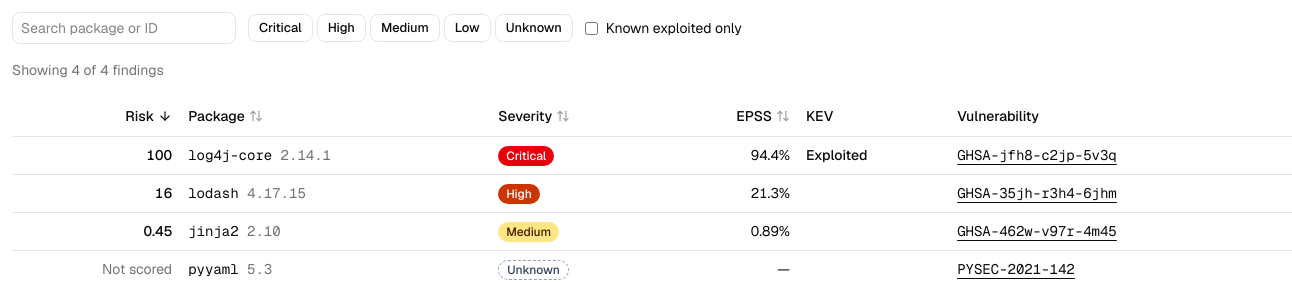
FindingsTable › hides Clear filters again once the search box is emptied
Type "x" into the search field labelled "Search package or ID".
click(124, 28); type("x")  # box [12,12,236,44]
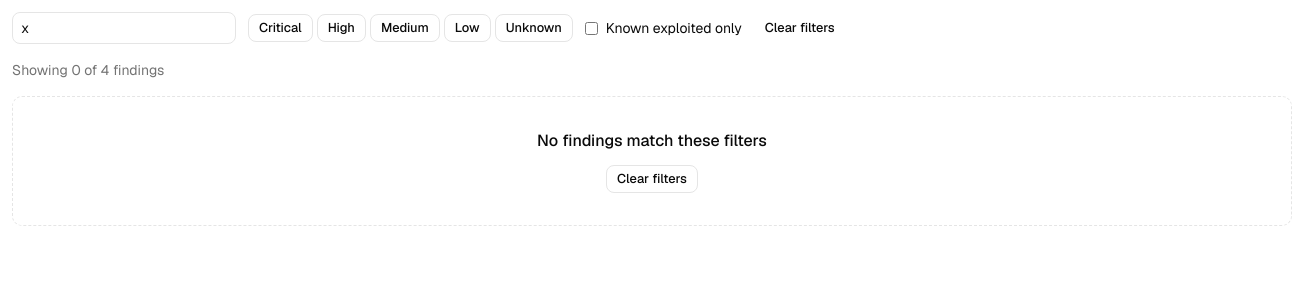
Clear the search field named "Search" at (124, 28), box [12,12,236,44]
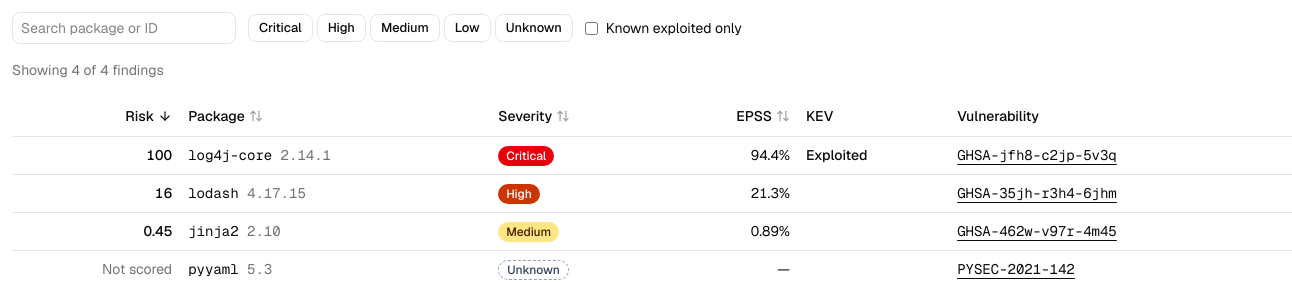
Check: the button "Clear filters" is gone
